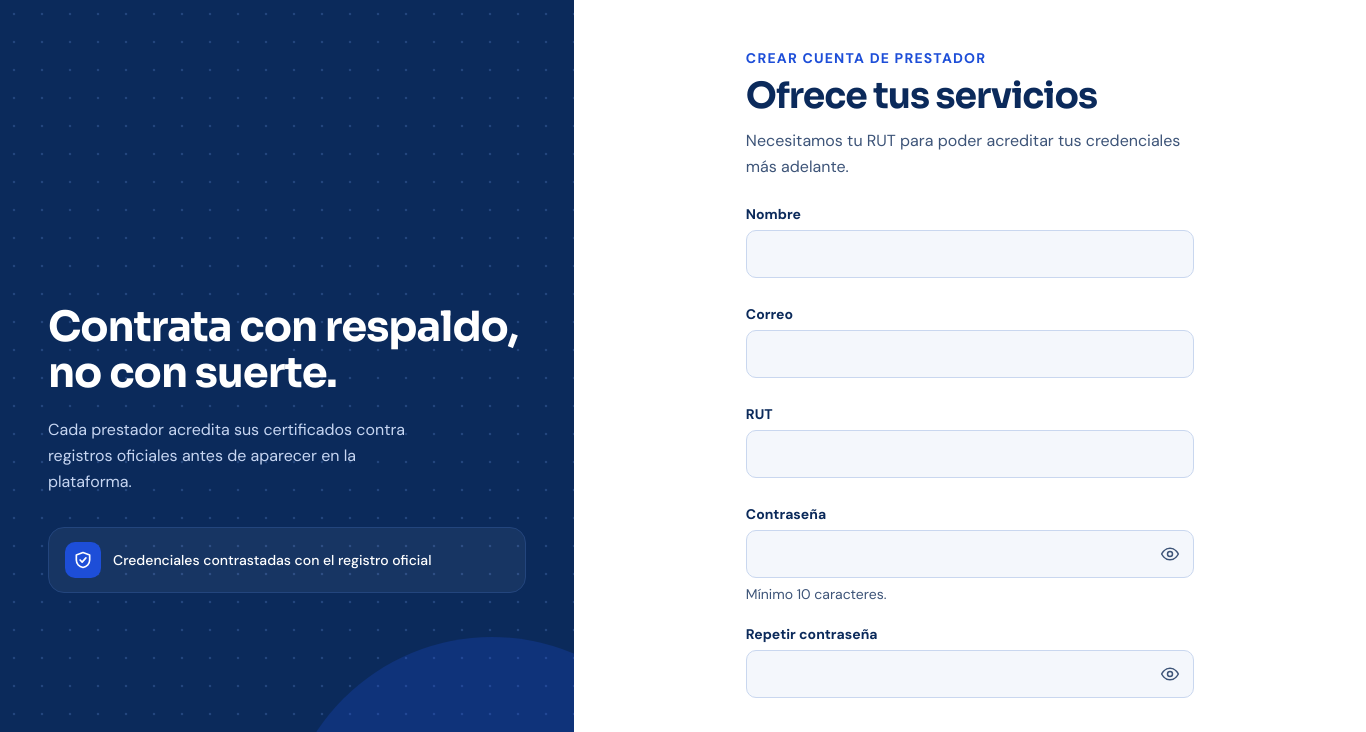
Test case: Registro de prestador › muestra el mensaje genérico cuando el correo o el RUT ya están registrados
Step 1. Type "Pedro Soto" into the field labelled "Nombre" → (970, 254), box [746, 230, 1194, 278]
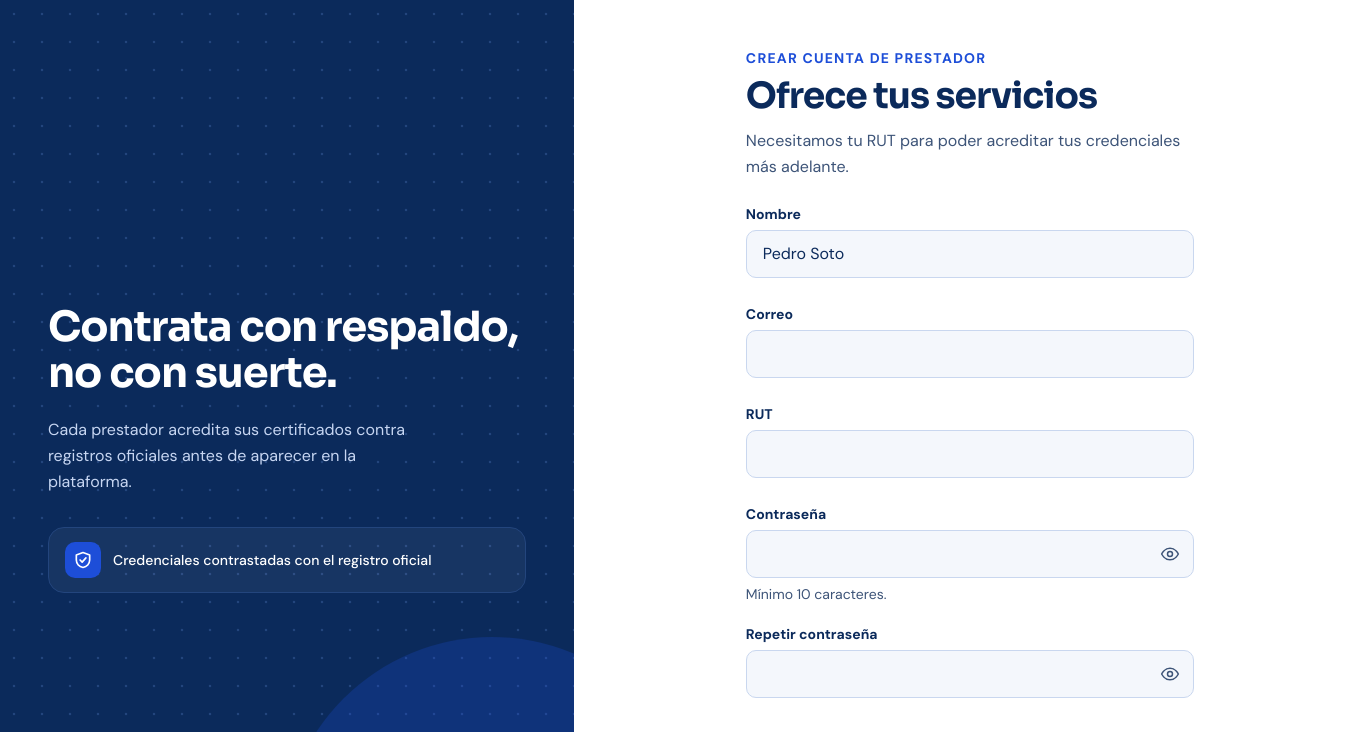
Step 2. Type "pedro.soto@ejemplo.cl" into the field labelled "Correo" → (970, 354), box [746, 330, 1194, 378]
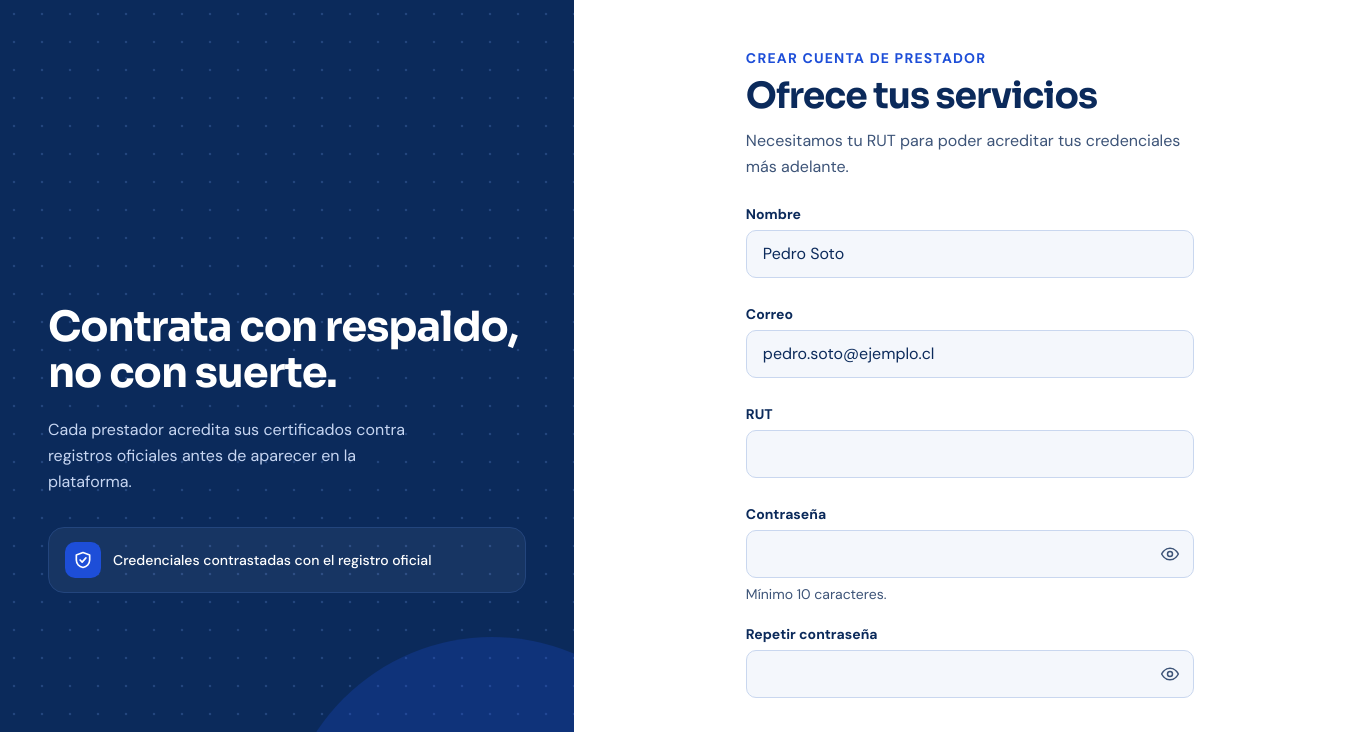
Step 3. Type "12.345.678-5" into the field labelled "RUT" → (970, 454), box [746, 430, 1194, 478]
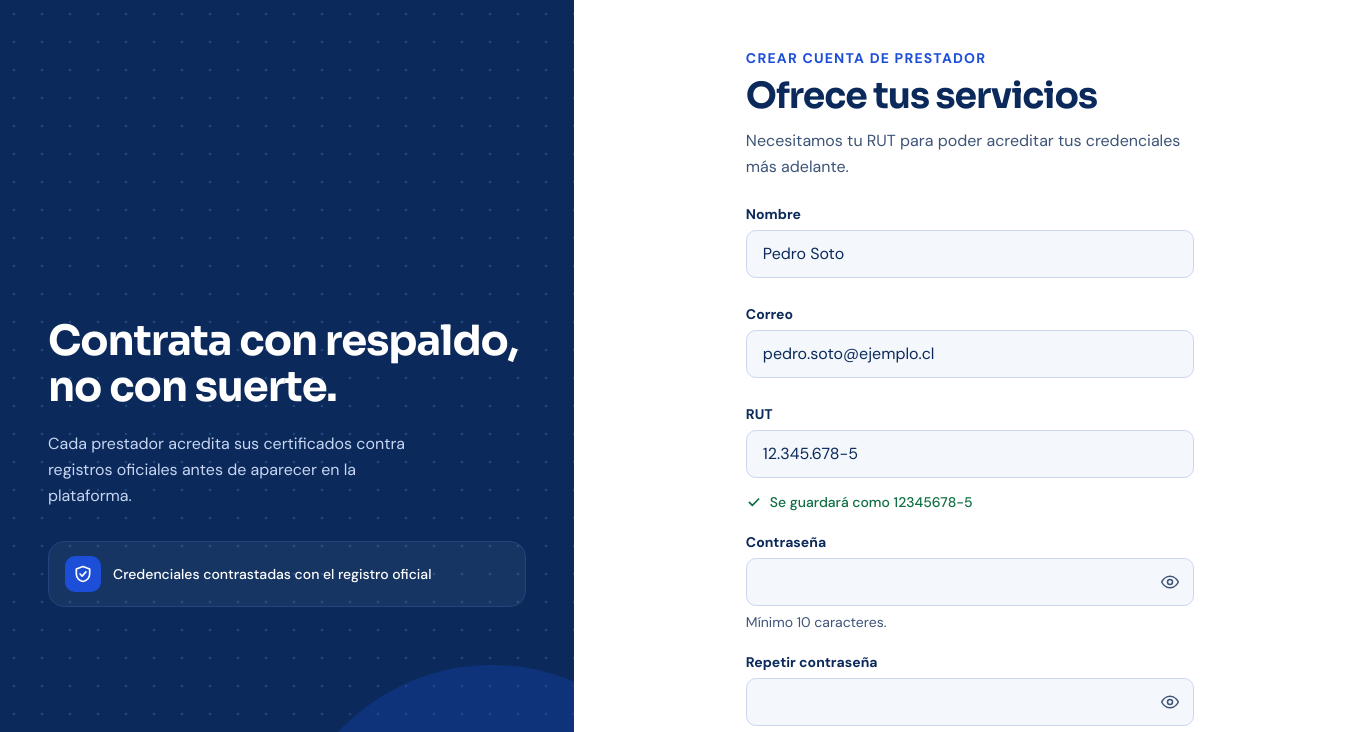
Step 4. Type "contrasena-segura-123" into the password field labelled "Contraseña" → (970, 582), box [746, 558, 1194, 606]
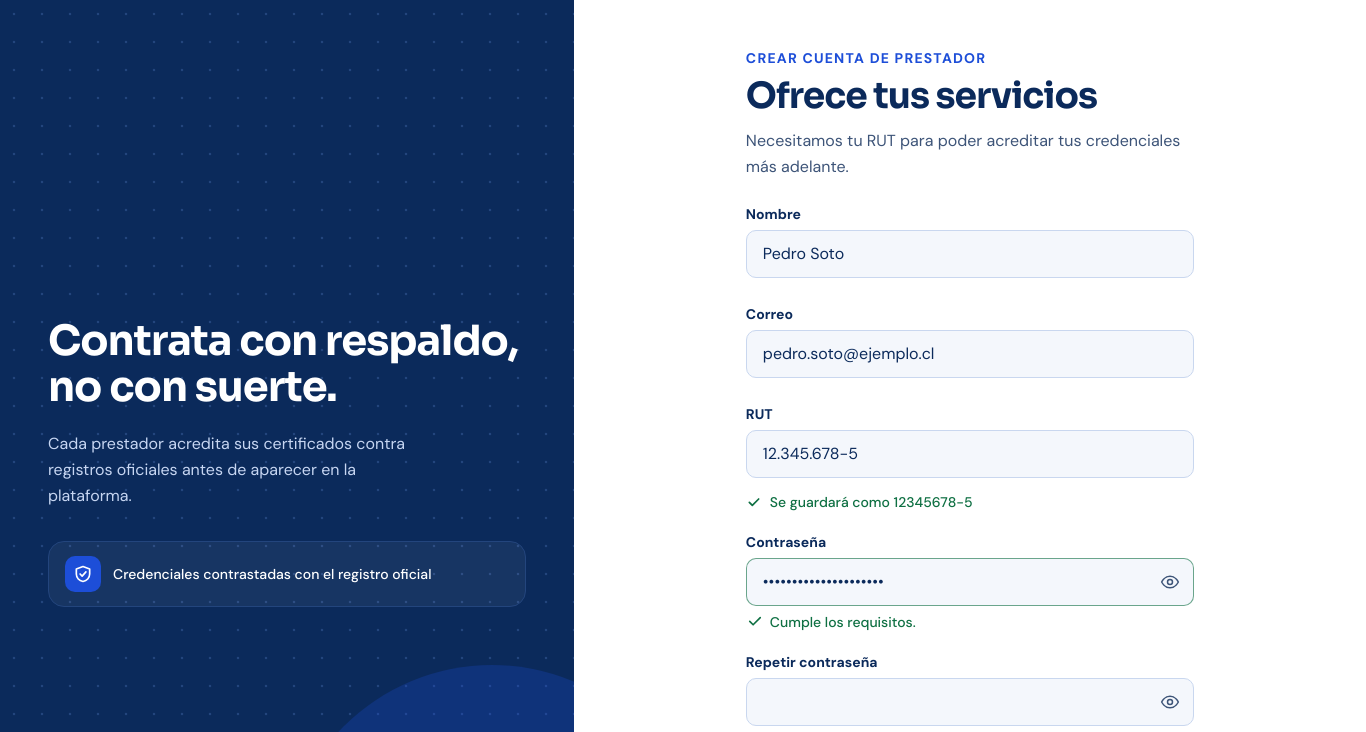
Step 5. Type "contrasena-segura-123" into the password field labelled "Repetir contraseña" → (970, 702), box [746, 678, 1194, 726]
(page scrolled)
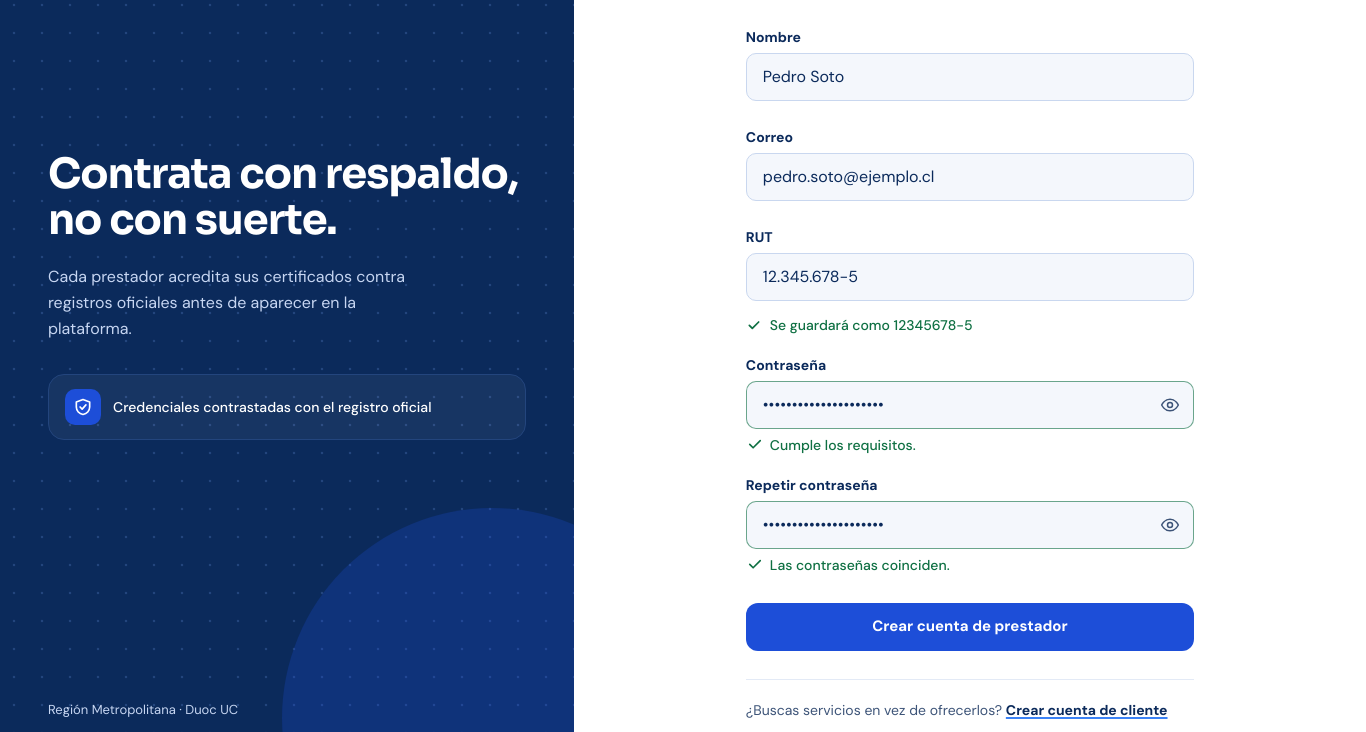
Step 6. Click the button "Crear cuenta de prestador" → (970, 627), box [746, 603, 1194, 651]
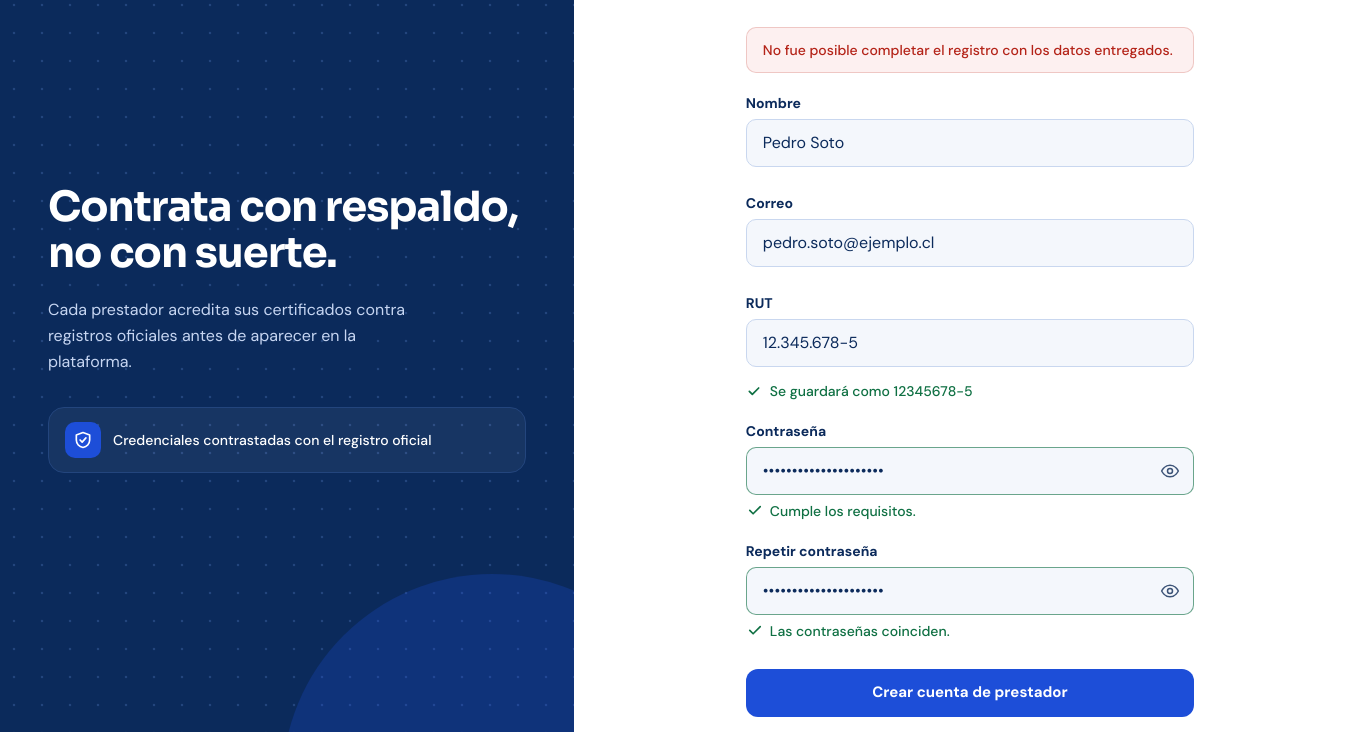
expect the message shows "No fue posible completar": met, box [763, 41, 1173, 59]
